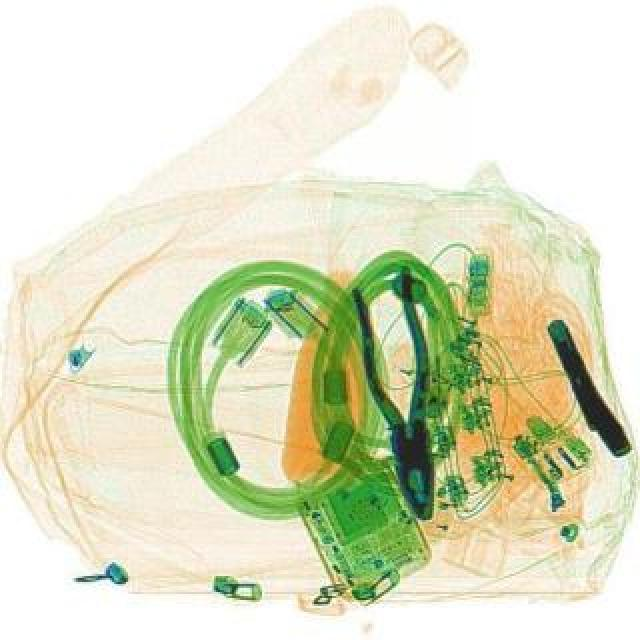gun: (538, 314, 634, 468)
wrench: (346, 264, 458, 524)
